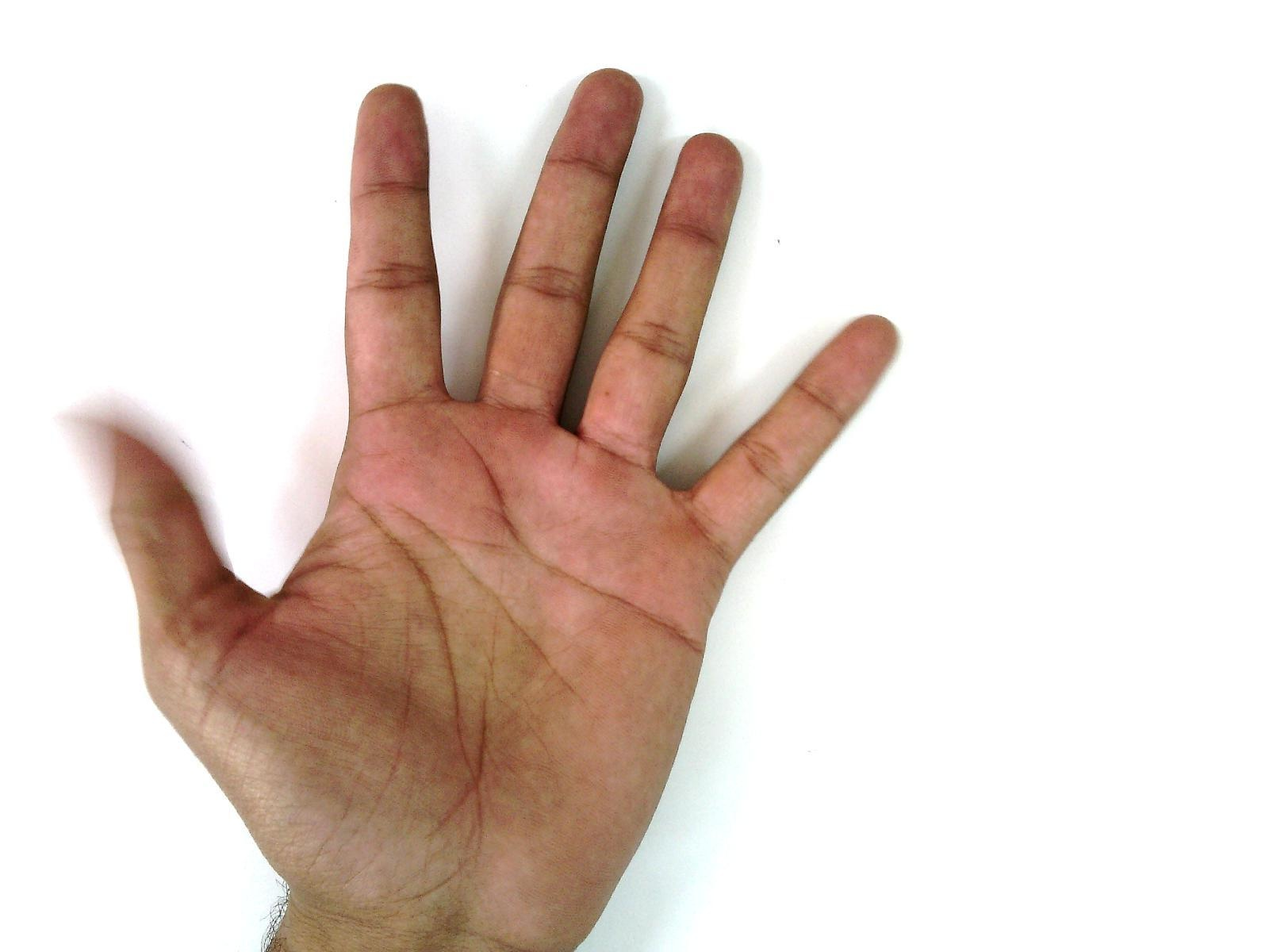open_palm: (89, 67, 905, 950)
